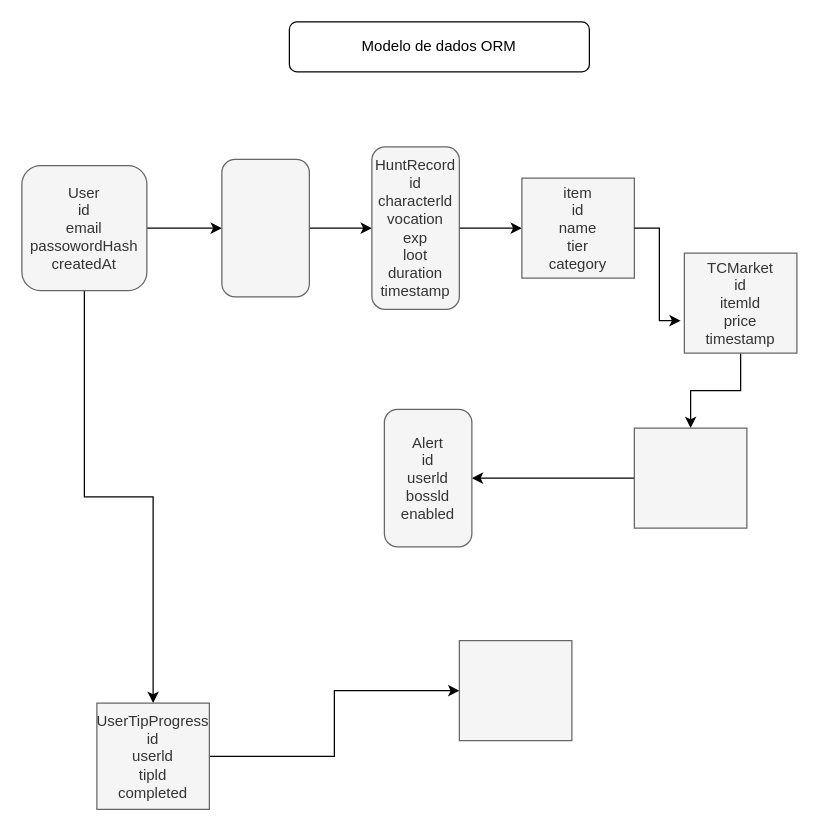
The diagram is 819 pixels wide and 831 high, and some of its shapes have lost their labels. The shapes that lost their labels are listed below. From the top down, each one's centre as x and y in pixels, then its label:
(265,227): Character id userld name vocation level server
(690,477): Boss id name spawnlocation
(515,690): StarterTip id title description type
